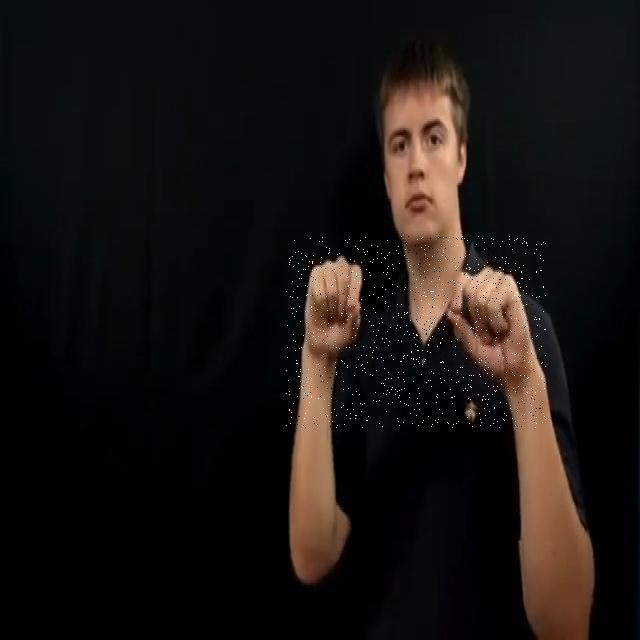bill: (286, 236, 546, 428)
